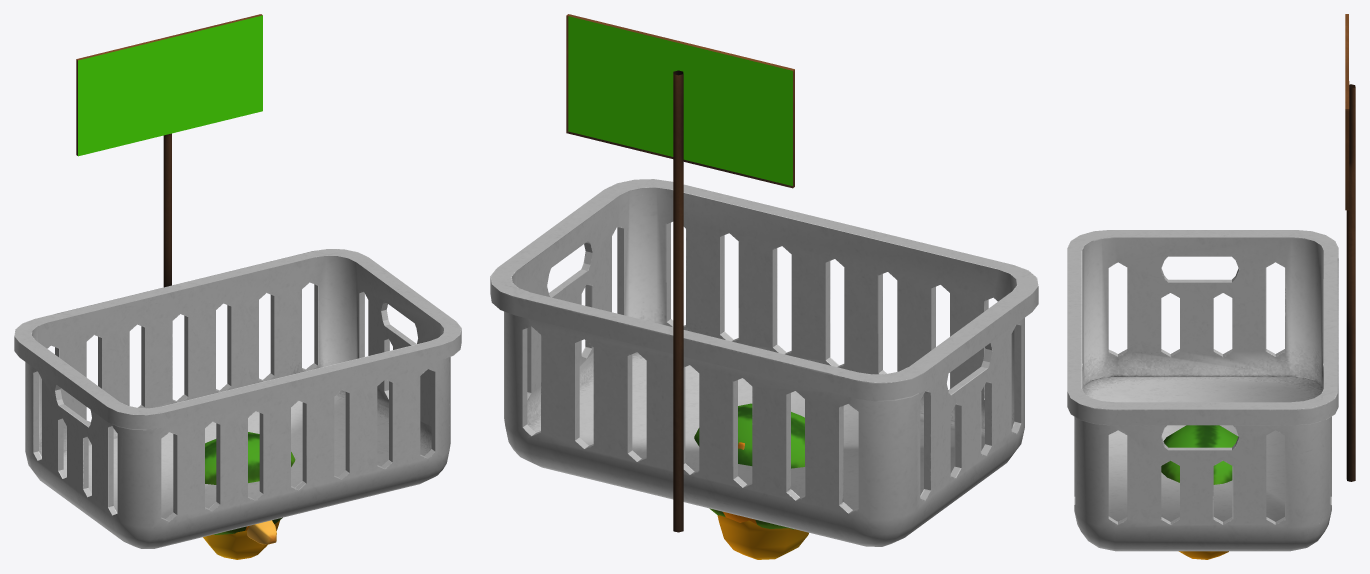
File: Test_Basket.fbx
The picture shows the model from 3 angles, left to right: view 1: azimuth 30°, elevation 25°; view 2: azimuth 150°, elevation 25°; view 3: azimuth 270°, elevation 25°; orthographic projection. The views are drawn at different scales.
Parts seen in each view (by area): view 1: Basket, Watermelon, Papaya, Banana; view 2: Basket, Papaya, Watermelon; view 3: Basket, Watermelon.
Part boxes in pixels (box(x1,y1,x2,y2)): Basket: box(14, 14, 461, 548); Watermelon: box(205, 432, 295, 534); Papaya: box(203, 520, 280, 559); Banana: box(247, 520, 276, 544); Basket: box(490, 14, 1038, 546); Papaya: box(717, 515, 808, 559); Watermelon: box(694, 403, 804, 529); Basket: box(1067, 14, 1355, 551); Watermelon: box(1161, 425, 1238, 484).
Bounding box in the file's own units: 1436 × 1840 × 973.
6 materials, 5 textured.
